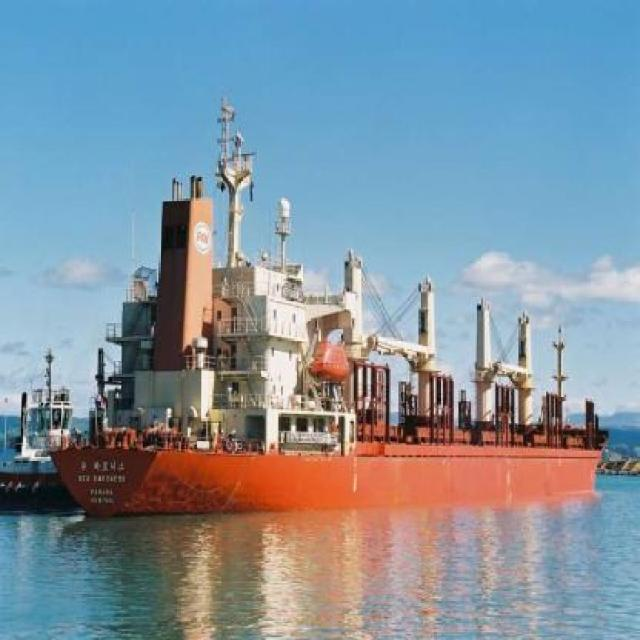ship: (25, 80, 622, 522)
